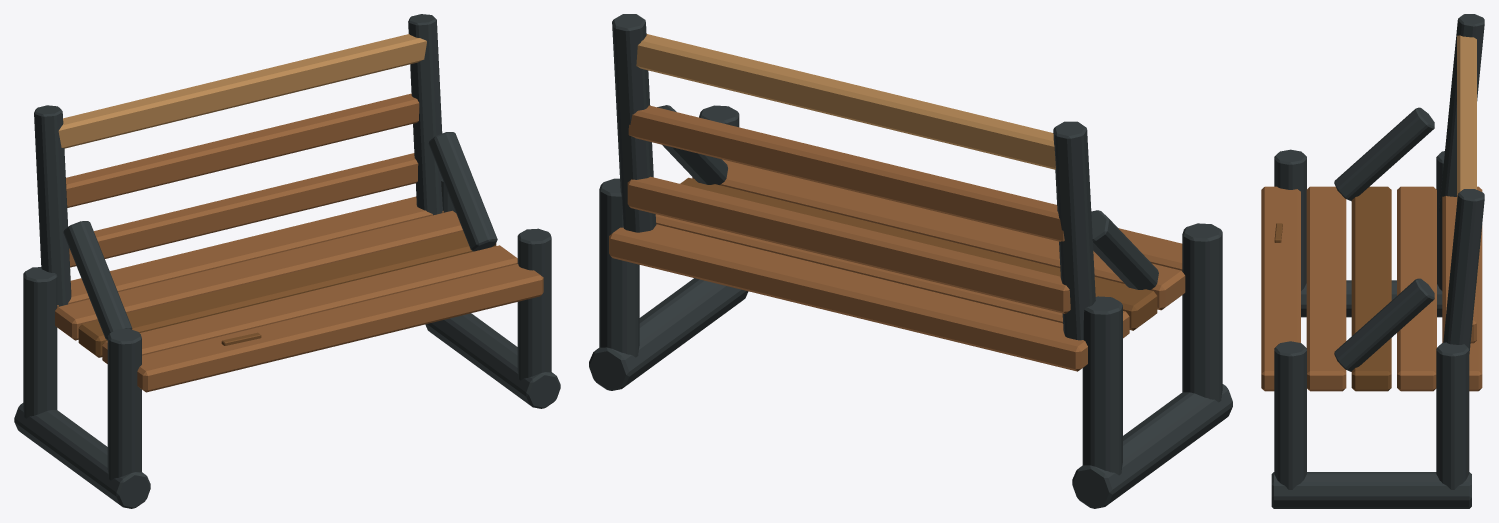
File: runtime.glb
3 renders of one model, left to right at view 1: azimuth 30°, elevation 25°; view 2: azimuth 150°, elevation 25°; view 3: azimuth 270°, elevation 25°, orthographic. The views are drawn at different scales.
Parts seen in each view (by area): view 1: eiffel-historic-bench-v08_nocol; view 2: eiffel-historic-bench-v08_nocol; view 3: eiffel-historic-bench-v08_nocol.
Part boxes in pixels (box(x1,y1,x2,y2)): eiffel-historic-bench-v08_nocol: box(14, 14, 560, 508); eiffel-historic-bench-v08_nocol: box(589, 14, 1232, 508); eiffel-historic-bench-v08_nocol: box(1261, 14, 1484, 508).
Bounding box in the file's own units: 1.85 × 1.28 × 0.8438.
